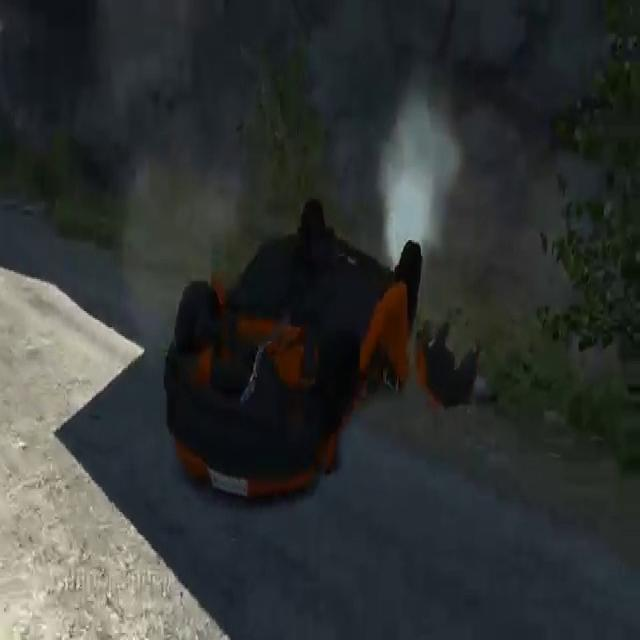severe: (156, 181, 426, 513)
